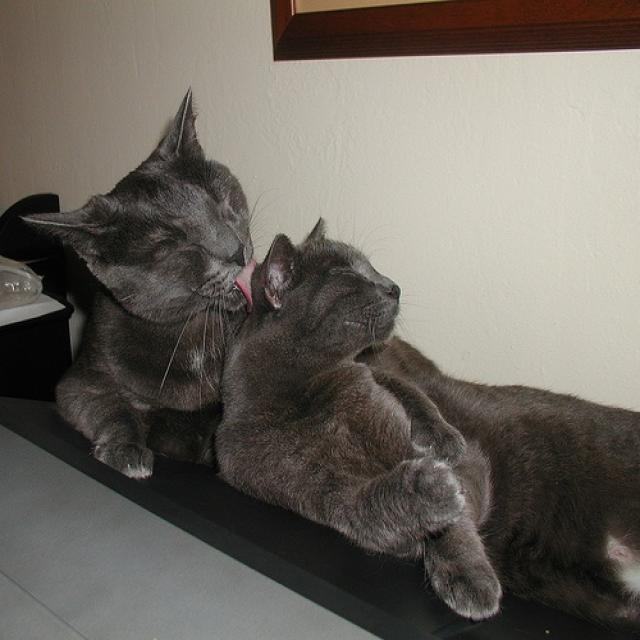cat: (214, 221, 639, 634), (21, 88, 257, 479)
